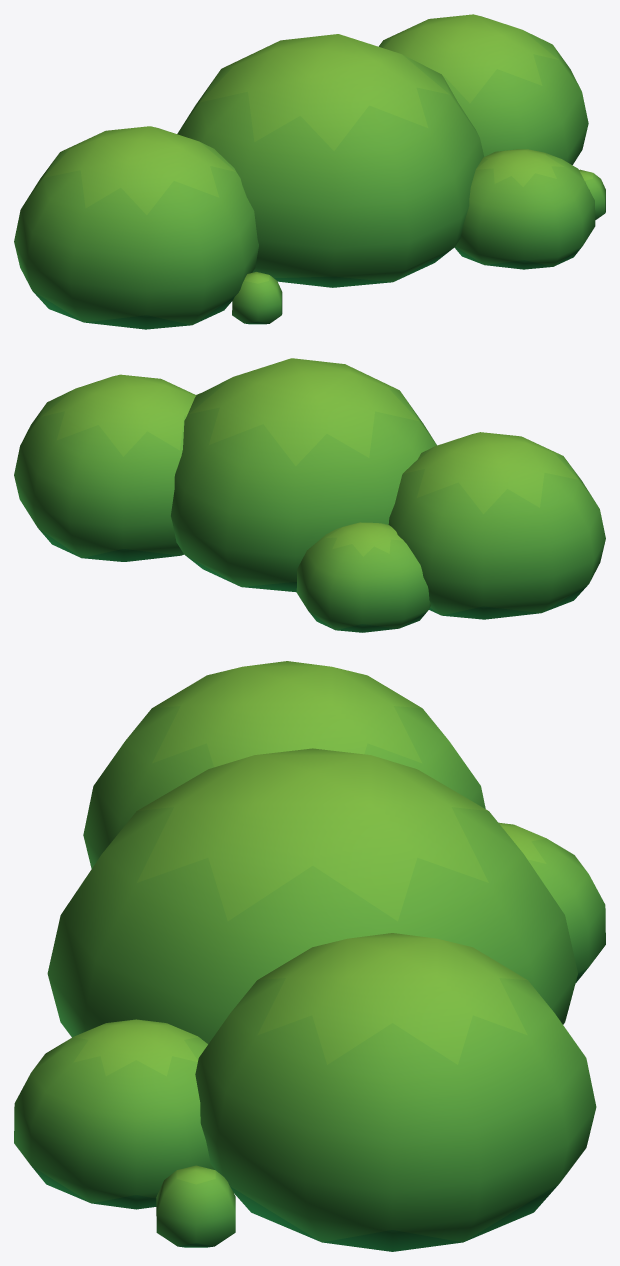
File: Rock1G.glb
3 renders of one model, top to bottom at view 1: azimuth 30°, elevation 25°; view 2: azimuth 150°, elevation 25°; view 3: azimuth 270°, elevation 25°, orthographic. The views are drawn at different scales.
Visible parts, largest first — view 1: Bush_1_G_Color1; view 2: Bush_1_G_Color1; view 3: Bush_1_G_Color1.
Part boxes in pixels (x1=…): Bush_1_G_Color1: x1=14, y1=14, x2=605, y2=329; Bush_1_G_Color1: x1=14, y1=358, x2=605, y2=632; Bush_1_G_Color1: x1=14, y1=661, x2=605, y2=1251.
Size of the model in its own units: 3.1 by 0.9937 by 1.75.
Materials: 1 (1 with a texture image).
